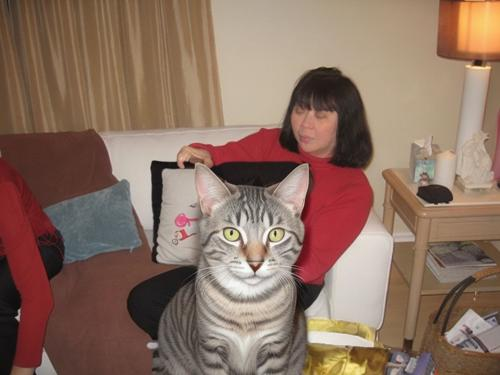cat: (151, 161, 310, 374)
person: (127, 67, 375, 375)
person/hand: (175, 146, 212, 180)
person/head: (291, 69, 349, 153)
sofa: (3, 125, 391, 373)
